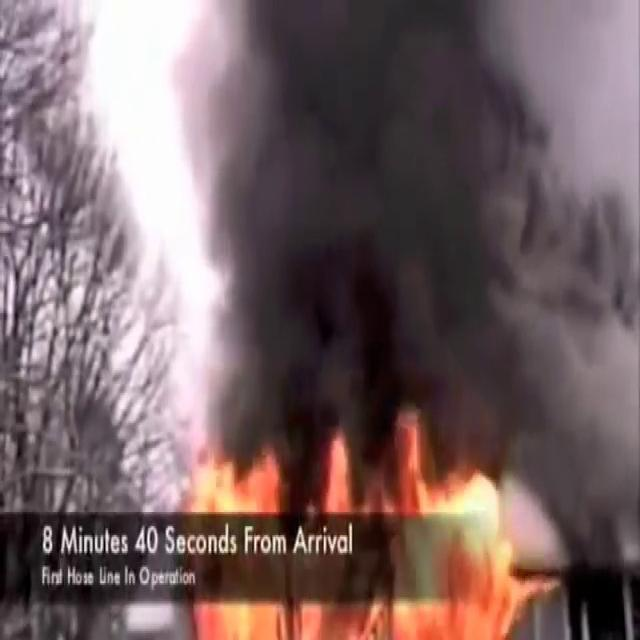Fire: (175, 416, 522, 640)
Smoke: (155, 0, 640, 526)
